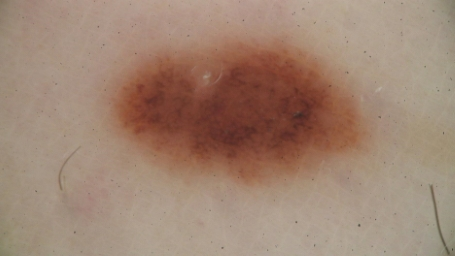melanoma: (116, 47, 361, 181)
